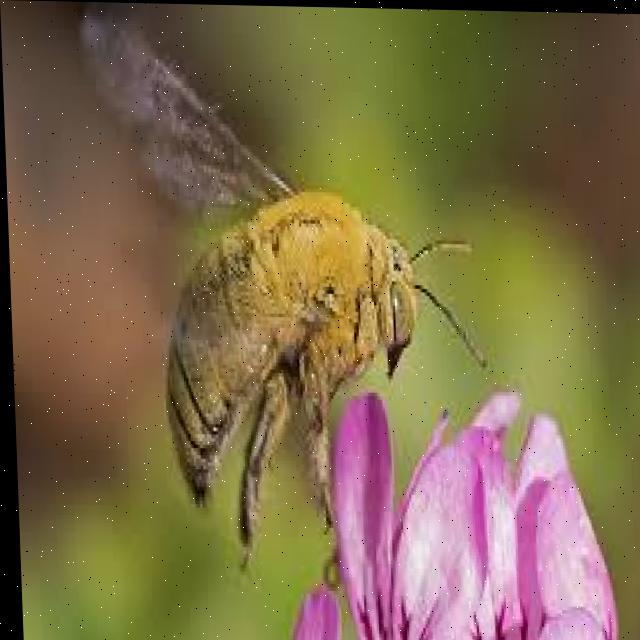Xylocopa: (81, 31, 477, 536)
